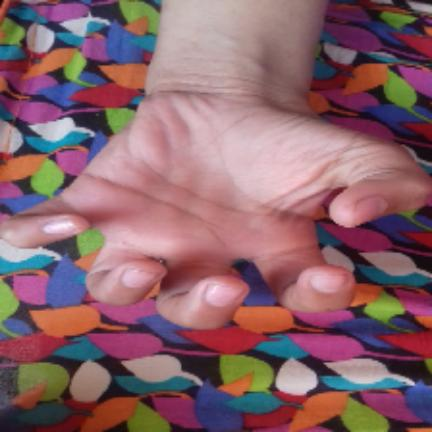Nail: (354, 196, 387, 224), (204, 283, 242, 307), (310, 273, 349, 294), (121, 268, 159, 288), (41, 219, 74, 234)
